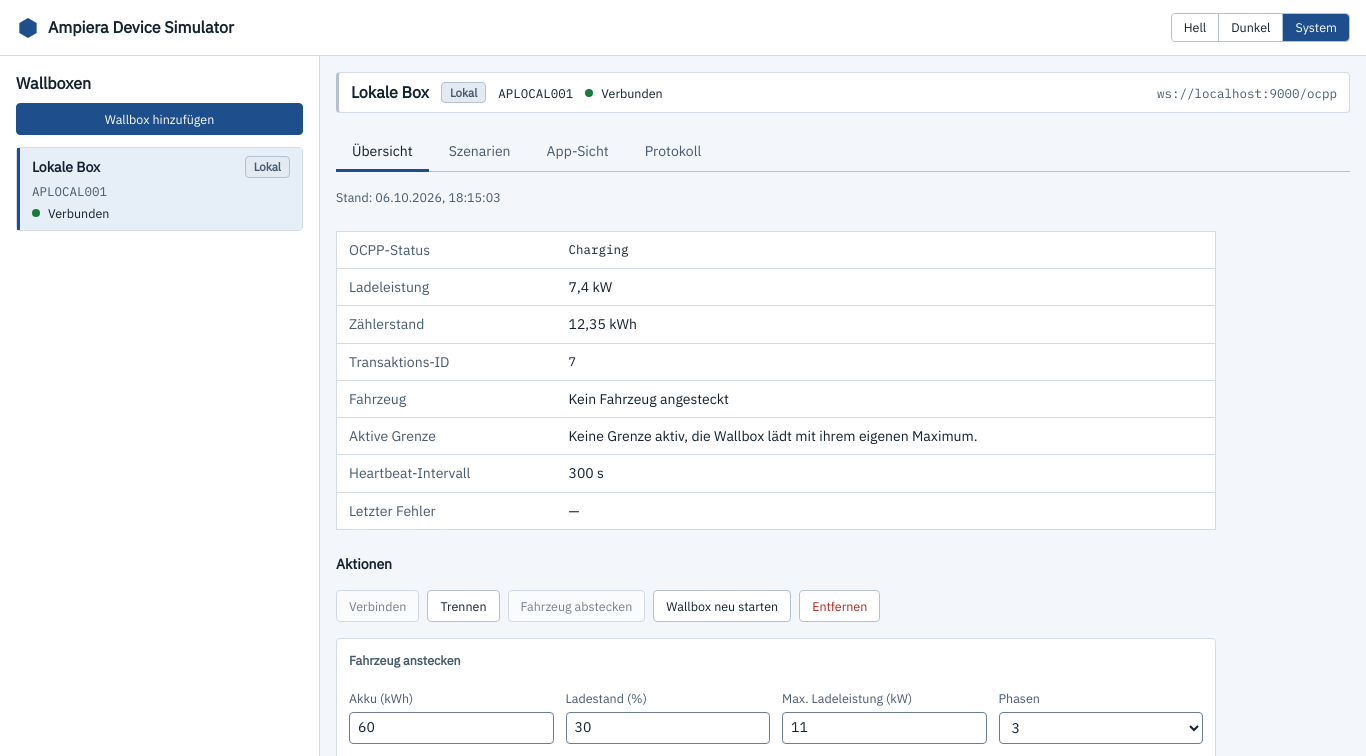
Scenario: App › scenarios › explains why start is disabled while another scenario runs
The width and height of the screenshot is (1366, 756).
Click the tab "Szenarien". click: x=480, y=153
box: [433,133,527,172]
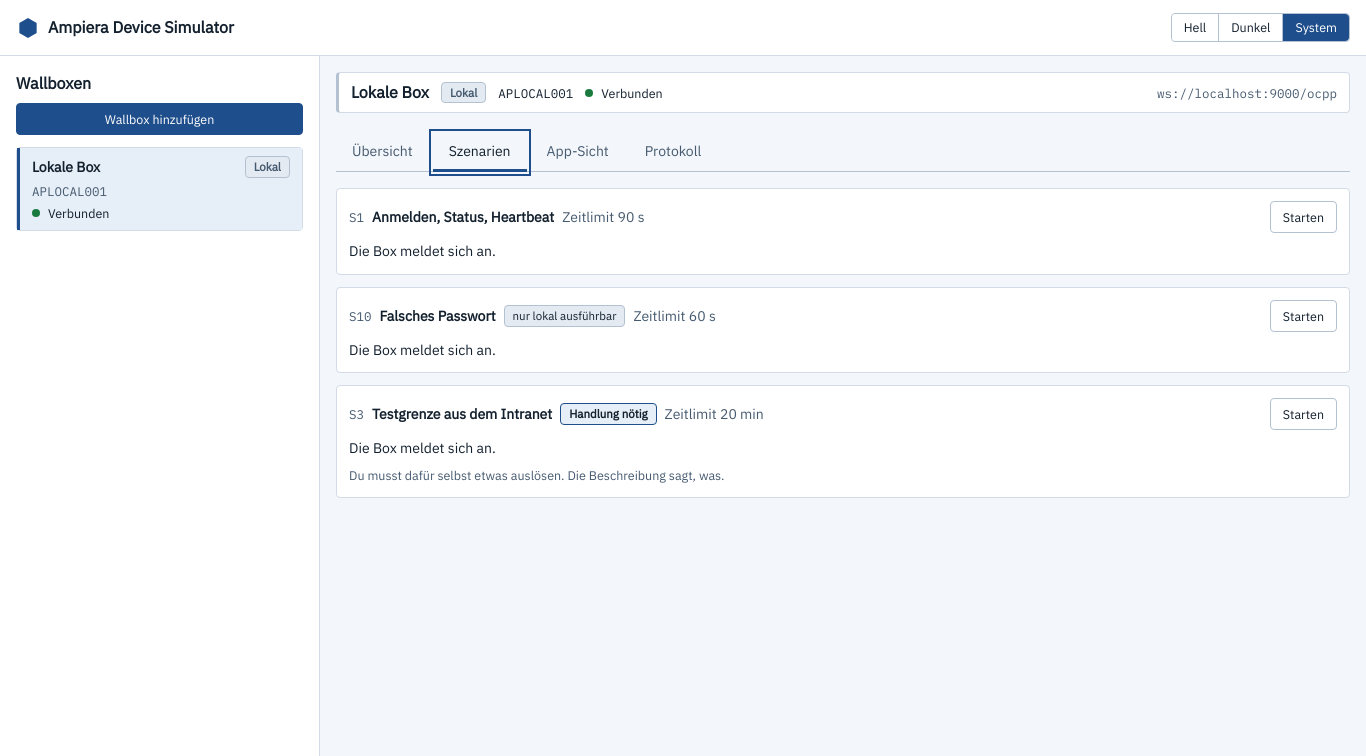
Click the button "Starten" in the row of "90 s". click: x=1303, y=218
box: [1270,202,1337,234]
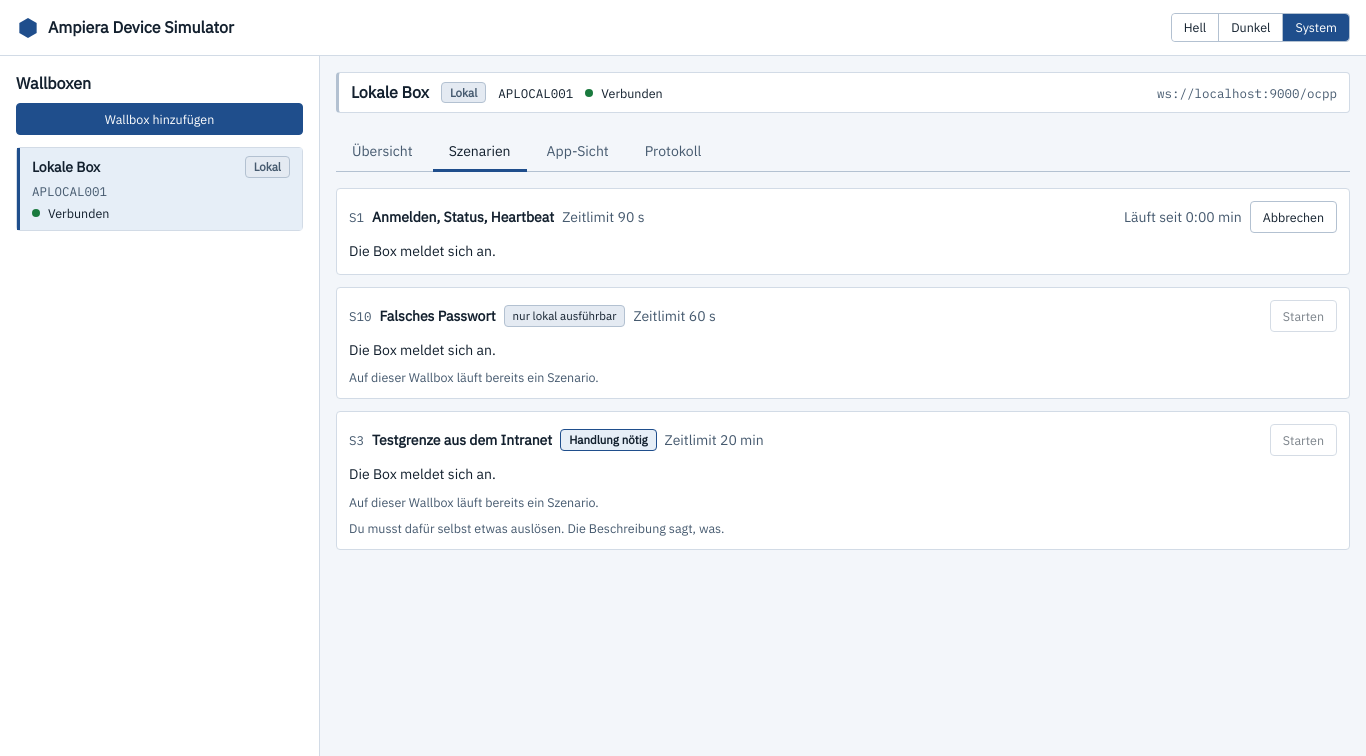
Now the button "Starten" in the row of "60 s" is disabled, box [1270,300,1337,332]
